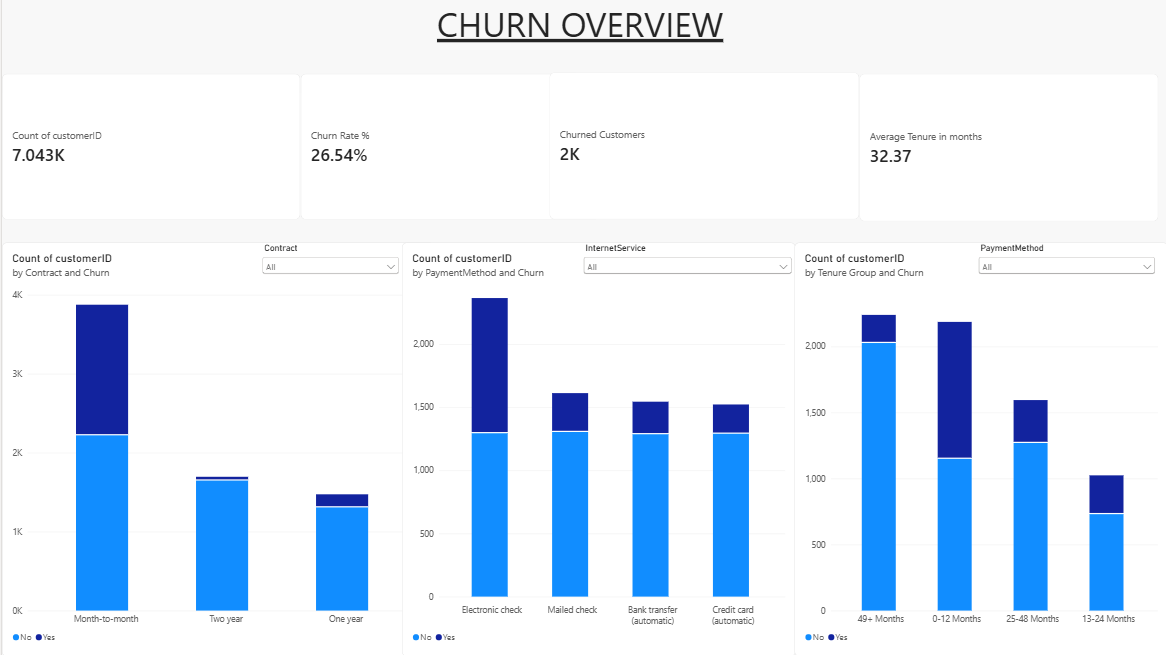

The page's visual inventory and layout, read from the dashboard file:
{"tool":"powerbi","page":{"name":"Page 1","canvas":[1920,1080],"ordinal":0},"visuals":[{"type":"cardVisual","fields":{"Data":["CountNonNull(WA_Fn-UseC_-Telco-Customer-Churn.customerID)"]},"box":[0,121.4,491.9,240.8],"z":0},{"type":"cardVisual","fields":{"Data":["WA_Fn-UseC_-Telco-Customer-Churn.Churn Rate %"]},"box":[491.9,121.4,491.9,240.8],"z":1},{"type":"cardVisual","fields":{"Data":["WA_Fn-UseC_-Telco-Customer-Churn.Churned Customers"]},"box":[901.5,119.4,510.5,242.9],"z":2},{"type":"columnChart","fields":{"Category":["WA_Fn-UseC_-Telco-Customer-Churn.Contract"],"Series":["WA_Fn-UseC_-Telco-Customer-Churn.Churn"],"Y":["CountNonNull(WA_Fn-UseC_-Telco-Customer-Churn.customerID)"]},"box":[0,399.3,712.2,681.3],"z":7},{"type":"columnChart","fields":{"Category":["WA_Fn-UseC_-Telco-Customer-Churn.PaymentMethod"],"Series":["WA_Fn-UseC_-Telco-Customer-Churn.Churn"],"Y":["CountNonNull(WA_Fn-UseC_-Telco-Customer-Churn.customerID)"]},"box":[658.7,399.3,648.4,681.3],"z":8},{"type":"cardVisual","fields":{"Data":["WA_Fn-UseC_-Telco-Customer-Churn.Average Tenure"]},"box":[1412,121.4,492,243],"z":11},{"type":"columnChart","fields":{"Category":["WA_Fn-UseC_-Telco-Customer-Churn.Tenure Group"],"Series":["WA_Fn-UseC_-Telco-Customer-Churn.Churn"],"Y":["Count(WA_Fn-UseC_-Telco-Customer-Churn.customerID)"]},"box":[1305,399.3,615.4,681.3],"z":14},{"type":"textbox","box":[0,0,1904,102.9],"z":15},{"type":"slicer","fields":{"Values":["WA_Fn-UseC_-Telco-Customer-Churn.Contract"]},"box":[424,399.3,234.6,195.5],"z":16},{"type":"slicer","fields":{"Values":["WA_Fn-UseC_-Telco-Customer-Churn.InternetService"]},"box":[953,399.3,352,140],"z":17},{"type":"slicer","fields":{"Values":["WA_Fn-UseC_-Telco-Customer-Churn.PaymentMethod"]},"box":[1603.4,399.3,300.5,140],"z":18}]}

Visuals, with their boxes in screenshot pixels (x1, y1, x2, y2), scaled from the page's 1920x1080 canvas onto the 1166x655 screenshot:
cardVisual - CountNonNull(WA_Fn-UseC_-Telco-Customer-Churn.customerID): {"x1": 0, "y1": 74, "x2": 299, "y2": 220}
cardVisual - WA_Fn-UseC_-Telco-Customer-Churn.Churn Rate %: {"x1": 299, "y1": 74, "x2": 597, "y2": 220}
cardVisual - WA_Fn-UseC_-Telco-Customer-Churn.Churned Customers: {"x1": 547, "y1": 72, "x2": 857, "y2": 220}
columnChart - WA_Fn-UseC_-Telco-Customer-Churn.Contract x WA_Fn-UseC_-Telco-Customer-Churn.Churn: {"x1": 0, "y1": 242, "x2": 433, "y2": 654}
columnChart - WA_Fn-UseC_-Telco-Customer-Churn.PaymentMethod x WA_Fn-UseC_-Telco-Customer-Churn.Churn: {"x1": 400, "y1": 242, "x2": 794, "y2": 654}
cardVisual - WA_Fn-UseC_-Telco-Customer-Churn.Average Tenure: {"x1": 857, "y1": 74, "x2": 1156, "y2": 221}
columnChart - WA_Fn-UseC_-Telco-Customer-Churn.Tenure Group x WA_Fn-UseC_-Telco-Customer-Churn.Churn: {"x1": 793, "y1": 242, "x2": 1165, "y2": 654}
textbox: {"x1": 0, "y1": 0, "x2": 1156, "y2": 62}
slicer - WA_Fn-UseC_-Telco-Customer-Churn.Contract: {"x1": 257, "y1": 242, "x2": 400, "y2": 361}
slicer - WA_Fn-UseC_-Telco-Customer-Churn.InternetService: {"x1": 579, "y1": 242, "x2": 793, "y2": 327}
slicer - WA_Fn-UseC_-Telco-Customer-Churn.PaymentMethod: {"x1": 974, "y1": 242, "x2": 1156, "y2": 327}
